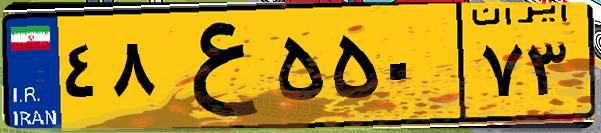0: (385, 28, 445, 110)
3: (525, 38, 570, 115)
4: (57, 26, 110, 100)
5: (270, 28, 330, 110), (330, 28, 385, 110)
7: (475, 38, 525, 113)
8: (110, 28, 158, 98)
ع: (158, 12, 270, 120)
